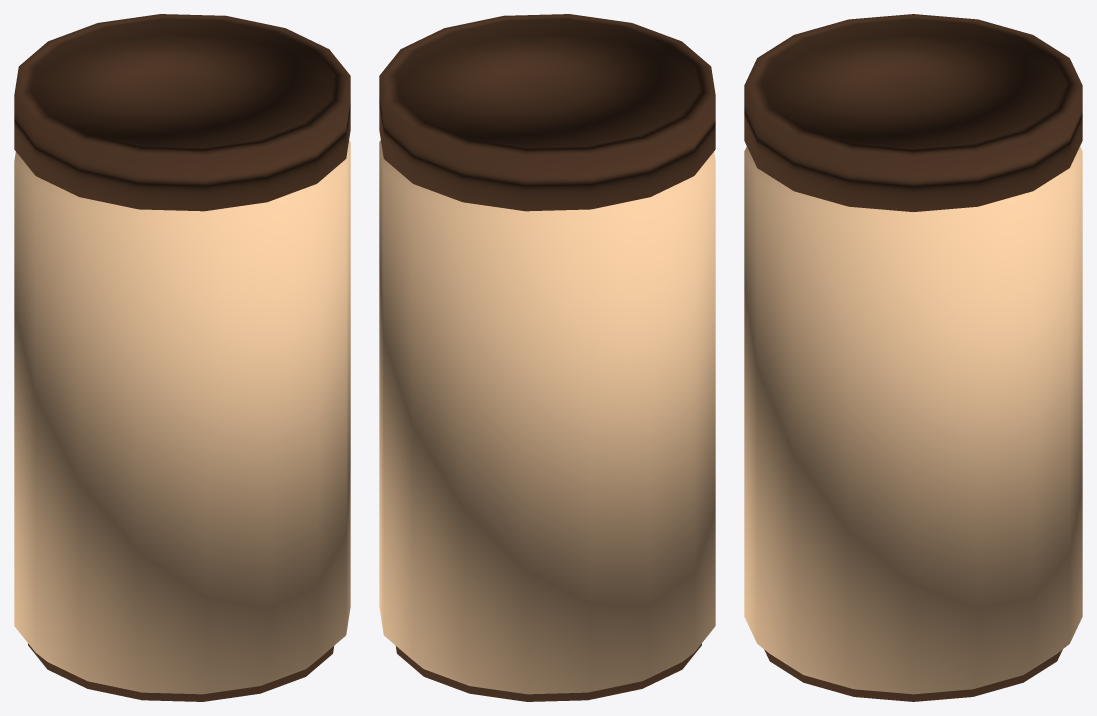
The model's file is ToyObject_189.fbx.
3 renders of one model, left to right at view 1: azimuth 30°, elevation 25°; view 2: azimuth 150°, elevation 25°; view 3: azimuth 270°, elevation 25°, orthographic.
Visible parts, largest first — view 1: object-1.077; view 2: object-1.077; view 3: object-1.077.
Part boxes in pixels (bbox=[...]): object-1.077: bbox=[14, 14, 350, 701]; object-1.077: bbox=[379, 14, 715, 701]; object-1.077: bbox=[744, 14, 1082, 701].
Bounding box in the file's own units: 0.0741 × 0.1339 × 0.0741.
